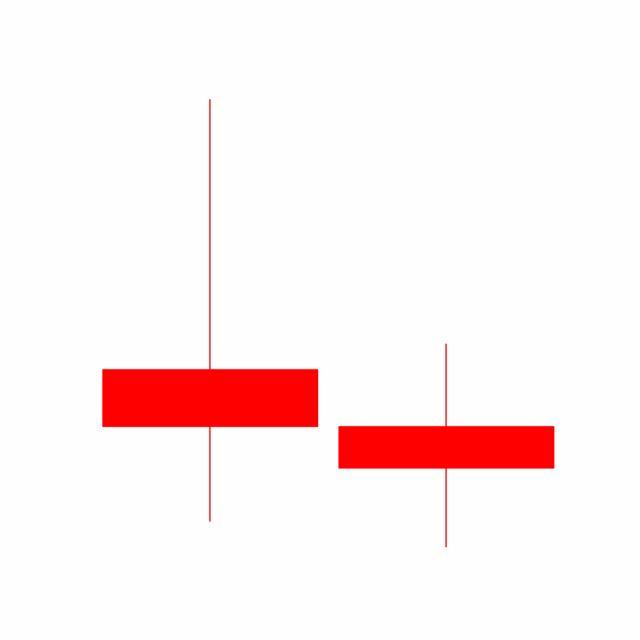Spinning Top: (328, 342, 566, 551)
